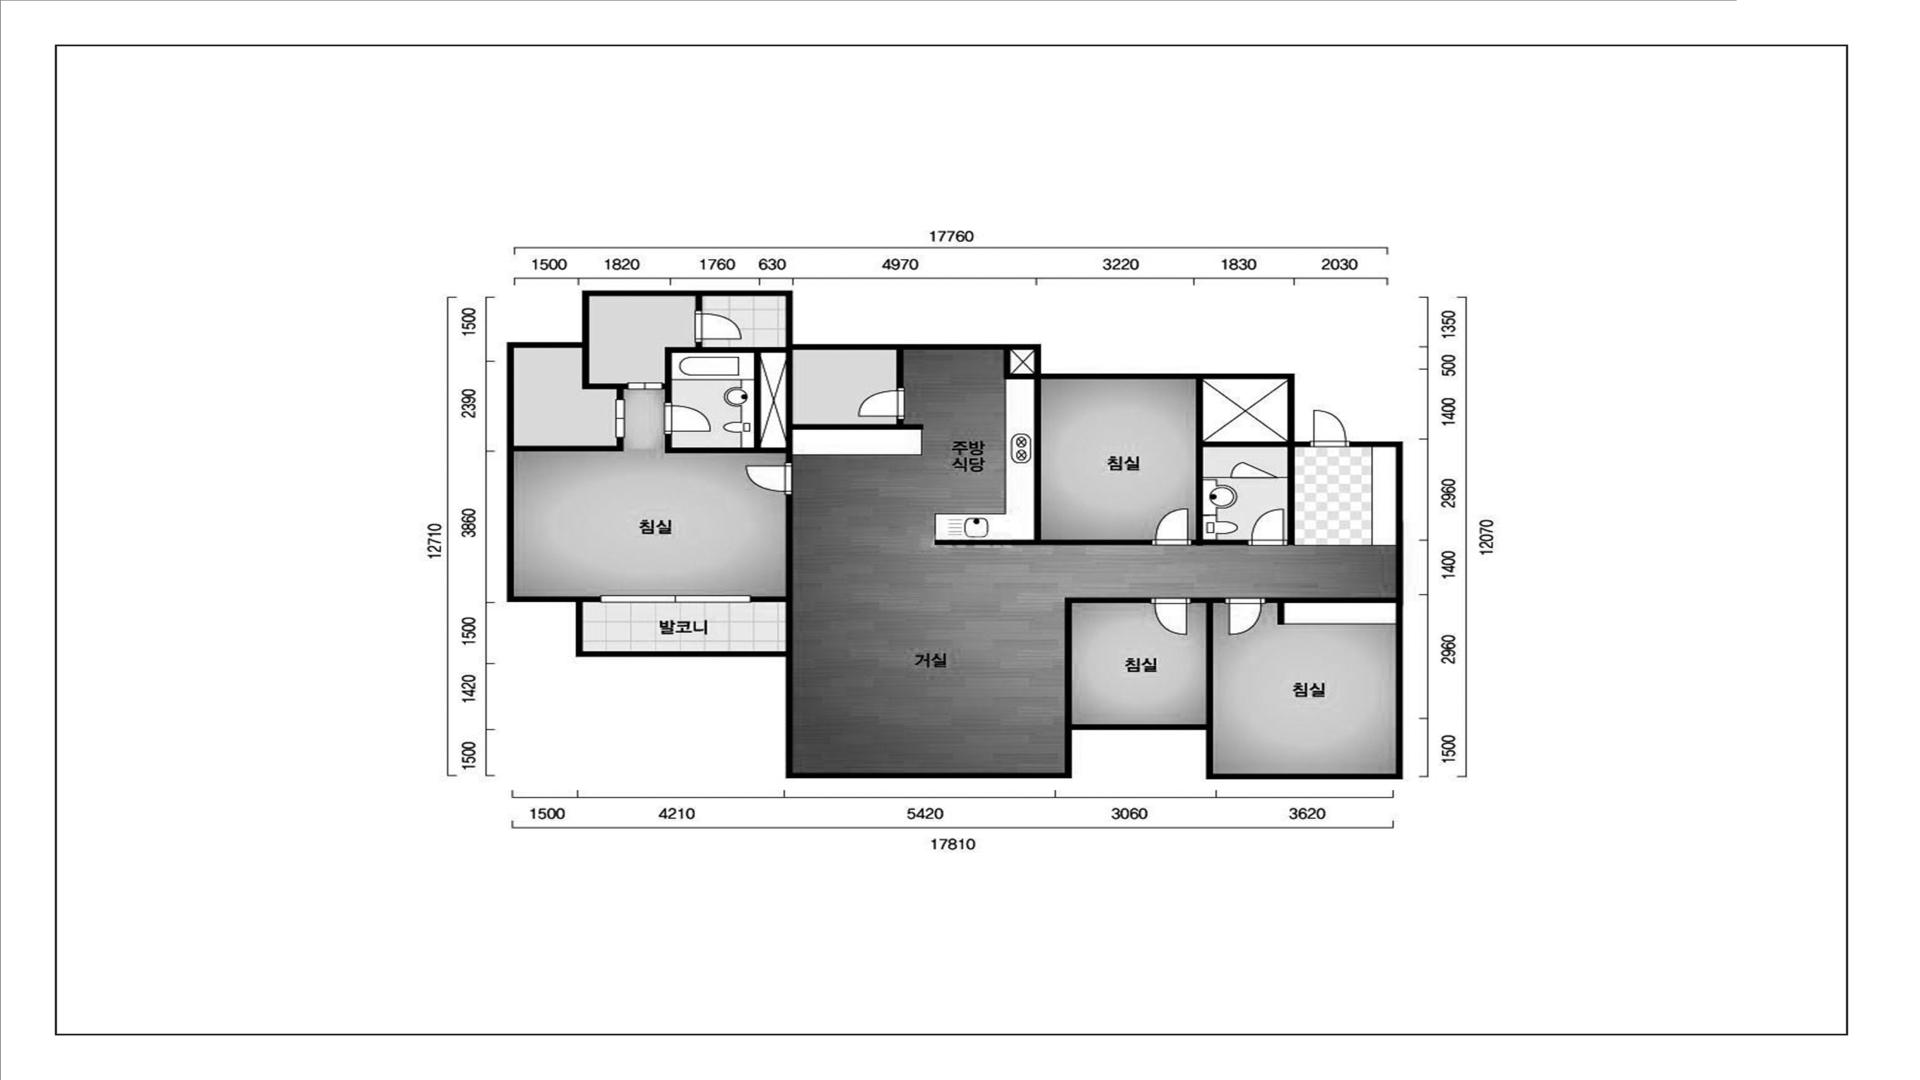background: (0, 0, 1920, 1080)
door: (744, 462, 793, 495), (1150, 597, 1191, 636), (663, 402, 712, 434), (1225, 597, 1265, 636), (1309, 409, 1349, 447), (1151, 508, 1191, 546), (857, 388, 905, 419), (695, 310, 742, 342), (1247, 509, 1287, 546), (601, 595, 750, 603), (1230, 462, 1278, 477), (616, 400, 625, 438), (628, 382, 662, 389)
wall: (506, 290, 1403, 779), (935, 378, 1153, 545), (662, 342, 923, 463), (1191, 378, 1287, 545), (1064, 597, 1151, 724), (750, 495, 793, 651), (1191, 597, 1225, 724), (1265, 597, 1396, 625), (583, 347, 628, 400), (514, 438, 624, 451), (1004, 349, 1034, 380), (1287, 447, 1295, 545), (754, 352, 761, 447), (897, 349, 903, 388), (695, 295, 702, 311), (583, 596, 601, 601)
